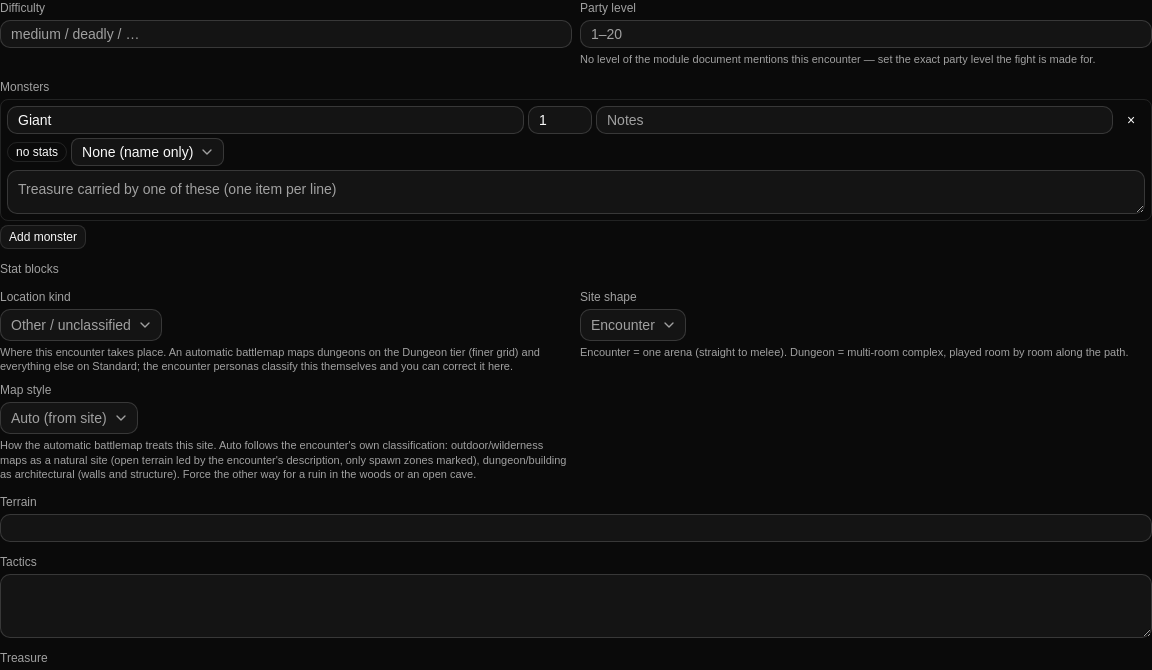
Test: encounter form monster sources › the rulebook-link dialog never lists an unparsed statblock chunk (fix-02 decision 3)
The width and height of the screenshot is (1152, 670).
Click the dropdown named "Stats source for Giant". click: (148, 152)
box: 71,138 -> 224,166
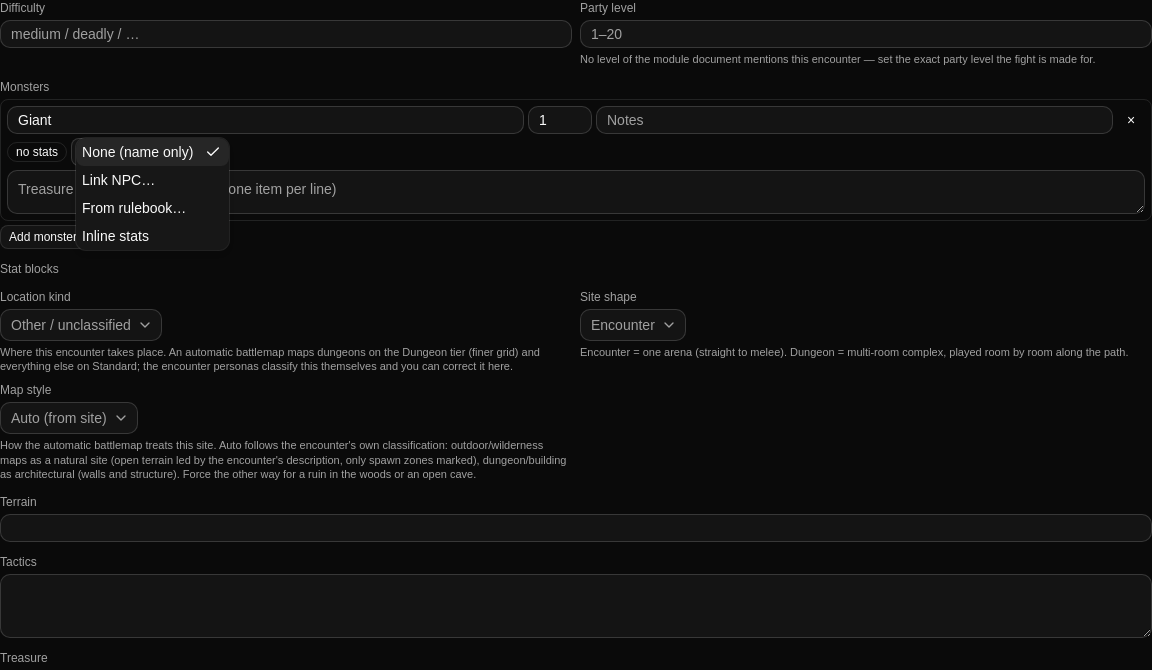
Click the option "From rulebook…". click: (134, 208)
box: 82,200 -> 186,216
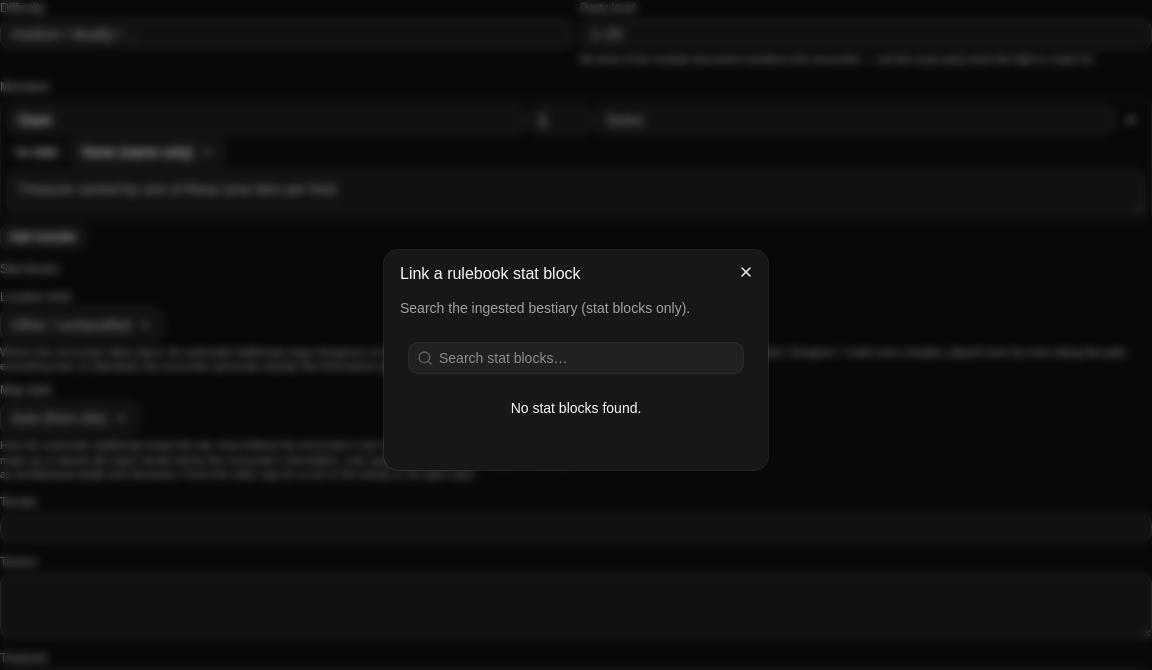
Type "giant" into the dropdown with placeholder "Search stat blocks…". click: (588, 358)
box: 433,348 -> 743,368
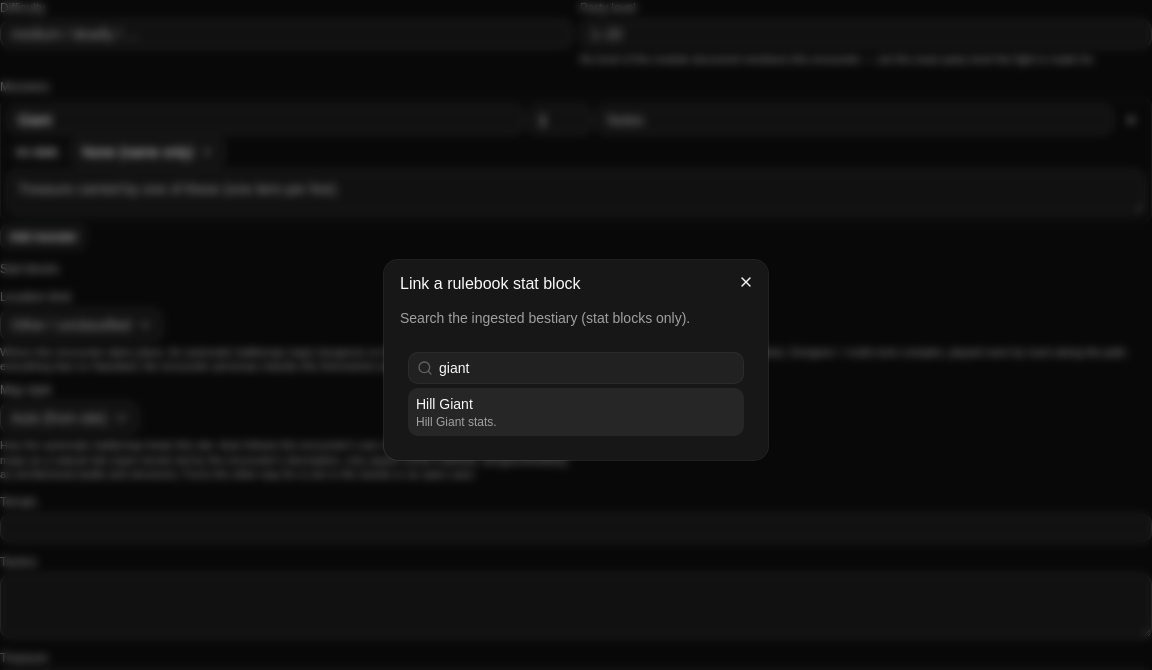
Expected: the text "Hill Giant" is shown, 416,396 -> 473,412
